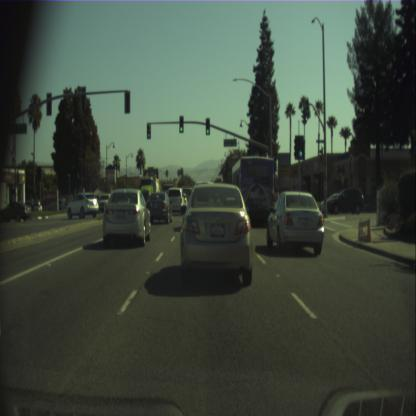Green: (179, 116, 183, 132), (206, 118, 210, 134)
GreenLeft: (146, 122, 150, 138)
GreenRight: (298, 136, 303, 158)
